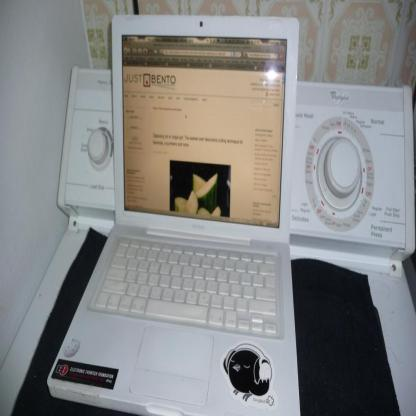board: (46, 12, 301, 416)
